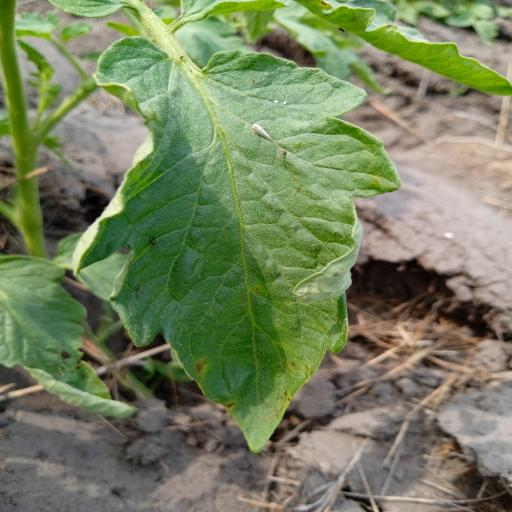Tomato_Brown_Spots: (68, 34, 406, 455)
